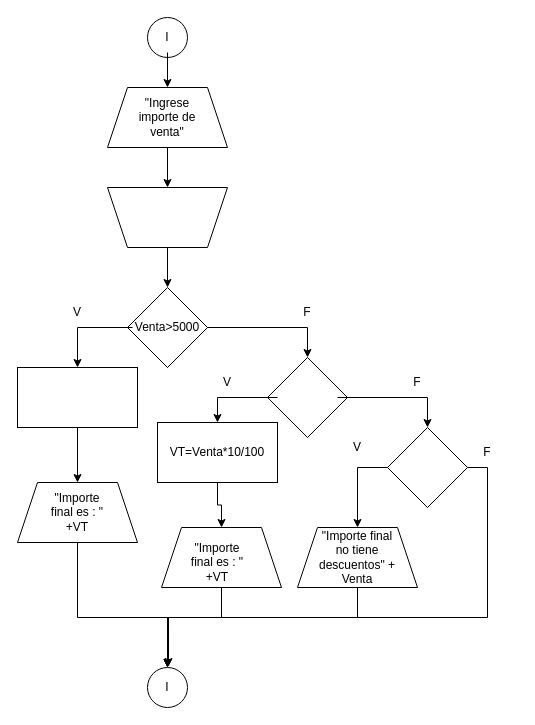
The diagram is 535 pixels wide and 725 high, and some of its shapes have lost their labels. Each missing label, with the centre of its shape:
Venta, Desc1, Desc2: the point at 167,217
Venta<=1000: the point at 427,467
Venta>1000: the point at 307,397
VT=Venta*18/100: the point at 77,397
